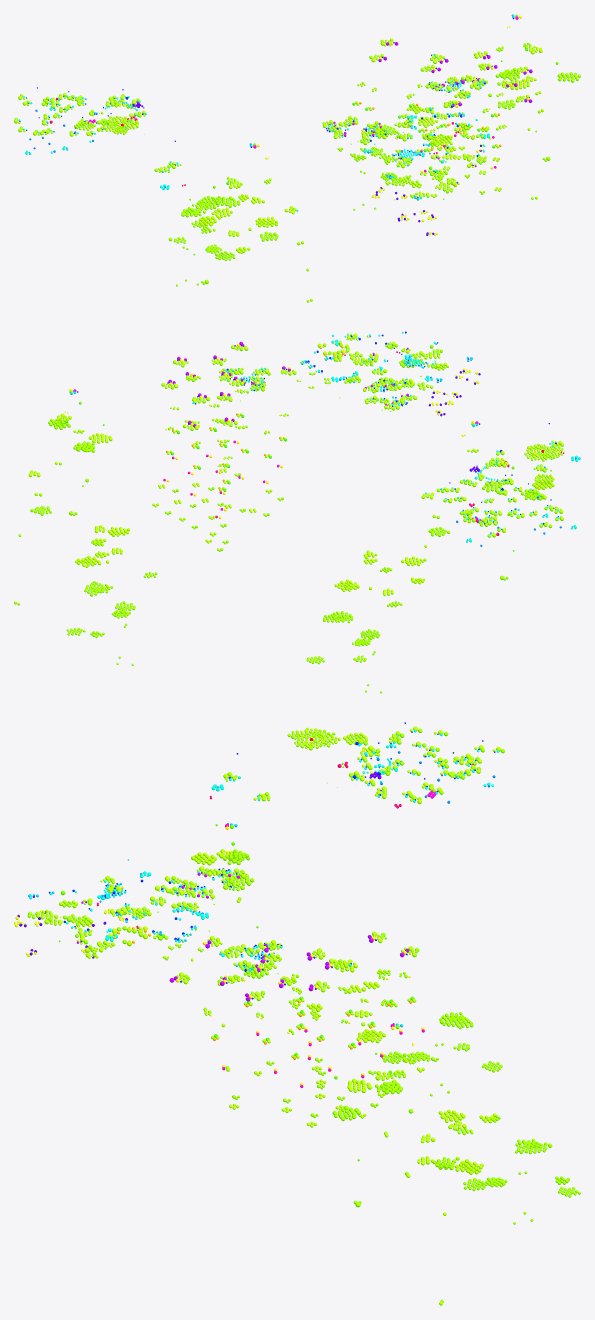
Rendered from task-1e4d6dfaf-layout.gltf.
The picture shows the model from 3 angles, top to bottom: view 1: azimuth 30°, elevation 25°; view 2: azimuth 150°, elevation 25°; view 3: azimuth 270°, elevation 25°; orthographic projection. The views are drawn at different scales.
Parts seen in each view (by area): view 1: normal_c_files, normal_h_files, normal_no_ext_files, normal_md_files; view 2: normal_c_files, normal_h_files, normal_no_ext_files; view 3: normal_c_files, normal_h_files, normal_no_ext_files.
Boxes of the visible parts, box(x1,y1,x2,y2) form: normal_c_files: box(14, 38, 543, 301); normal_h_files: box(14, 39, 580, 302); normal_no_ext_files: box(18, 53, 485, 211); normal_md_files: box(19, 18, 529, 172); normal_c_files: box(14, 333, 563, 604); normal_h_files: box(17, 333, 563, 693); normal_no_ext_files: box(192, 331, 559, 535); normal_c_files: box(40, 726, 501, 1305); normal_h_files: box(27, 728, 580, 1302); normal_no_ext_files: box(29, 730, 499, 971).
Bounding box in the file's own units: 563 × 236 × 413.
